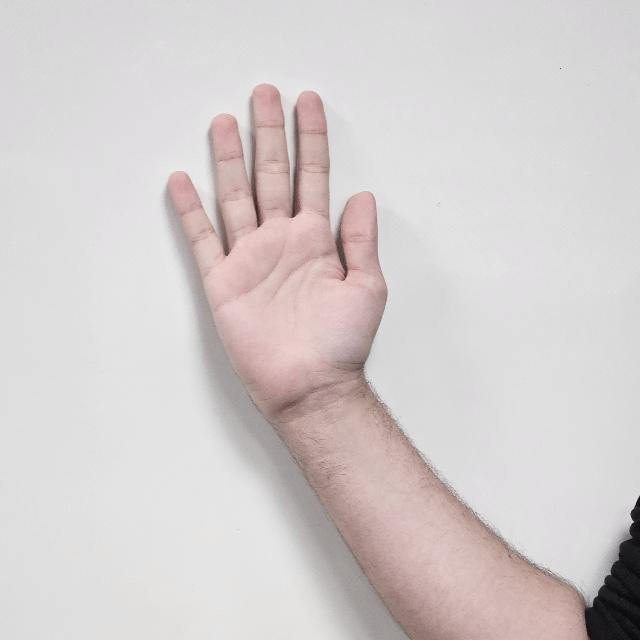X: (164, 82, 388, 424)
